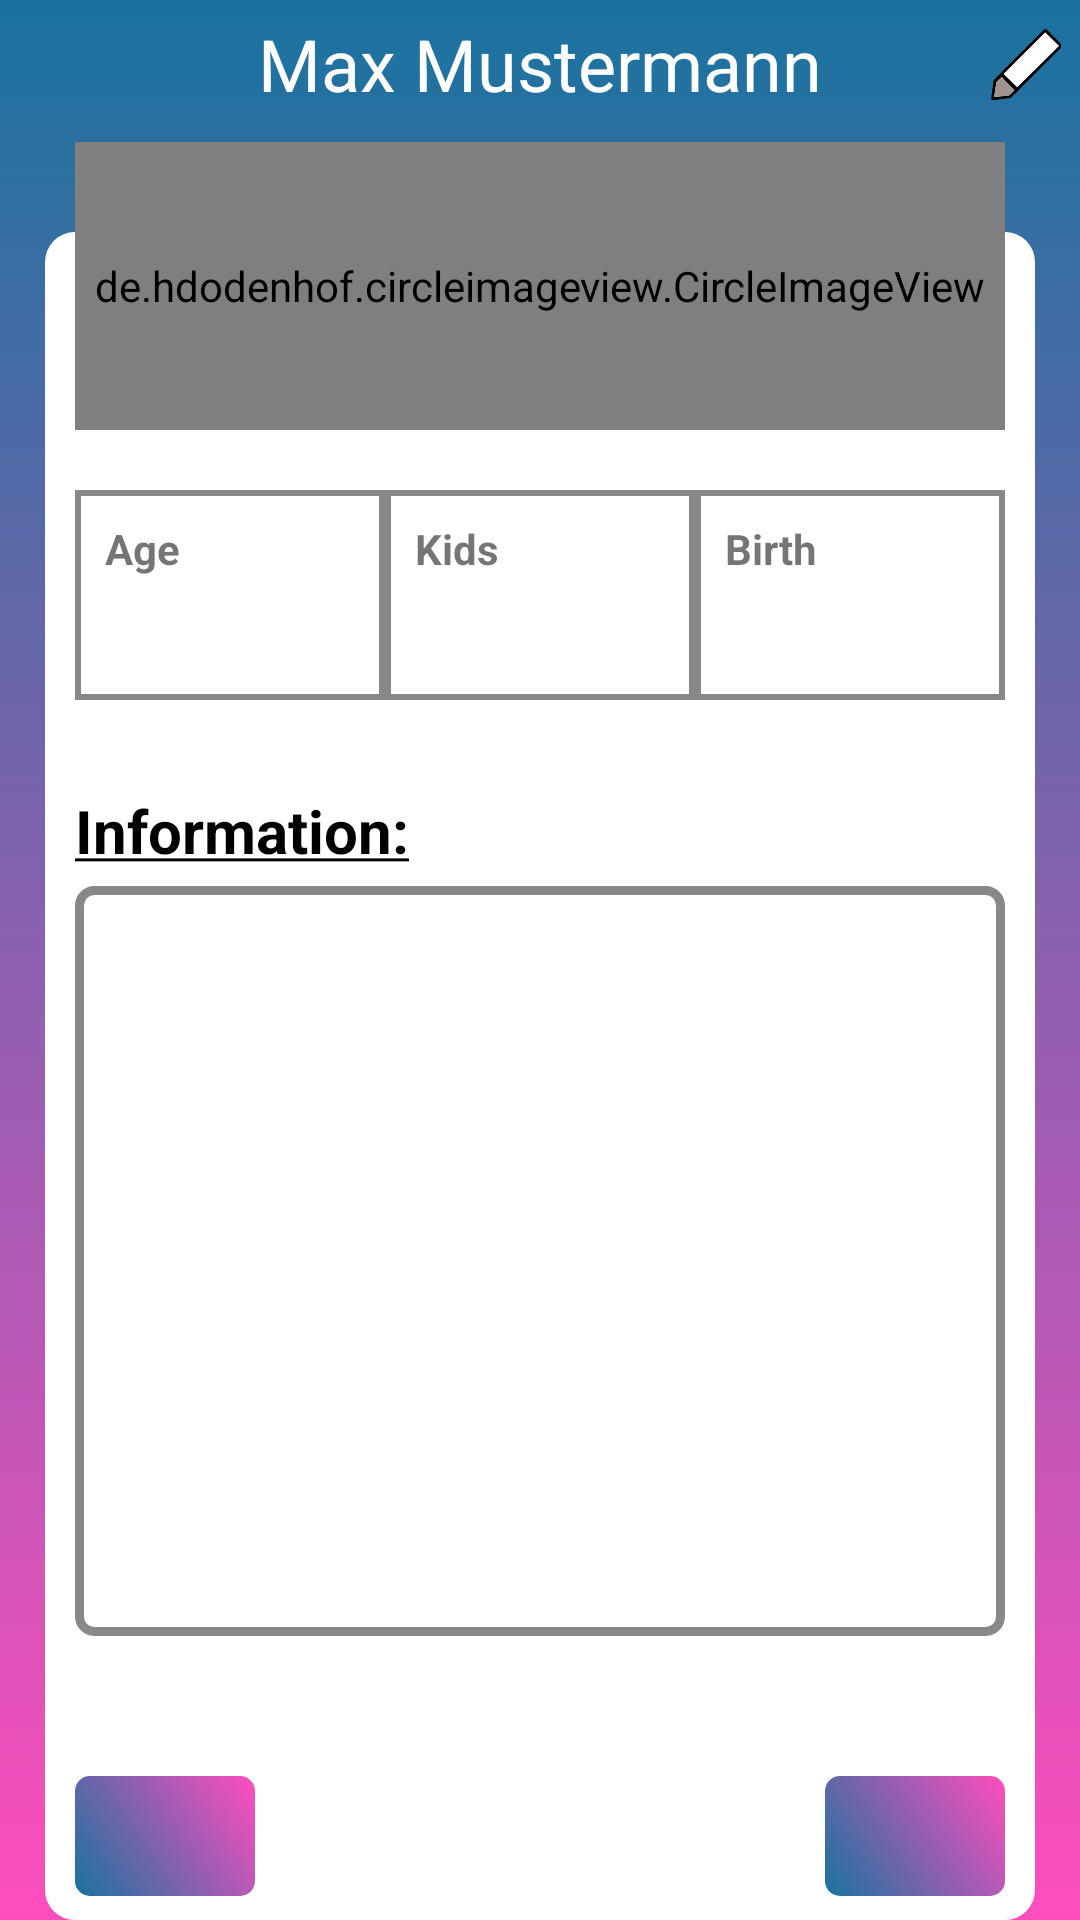

Point at icon controls on the screen. Image size 1080 × 1920, points as [x,y].
edit pencil: [1026,64]
